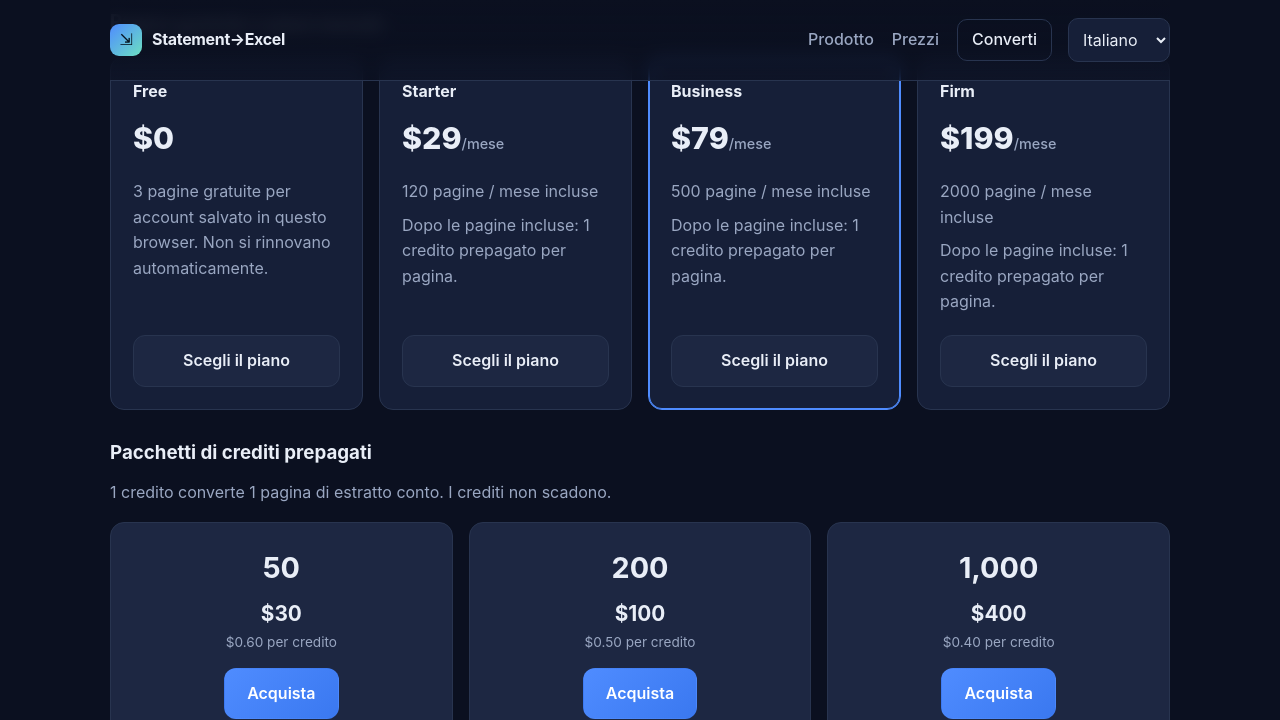
Test: server-authoritative checkout › shows only the localized checkout error in it
(page scrolled)
Step 1. Click the button "Scegli il piano" below "120" → {"x": 506, "y": 361}, box [402,335,609,386]
(page scrolled)
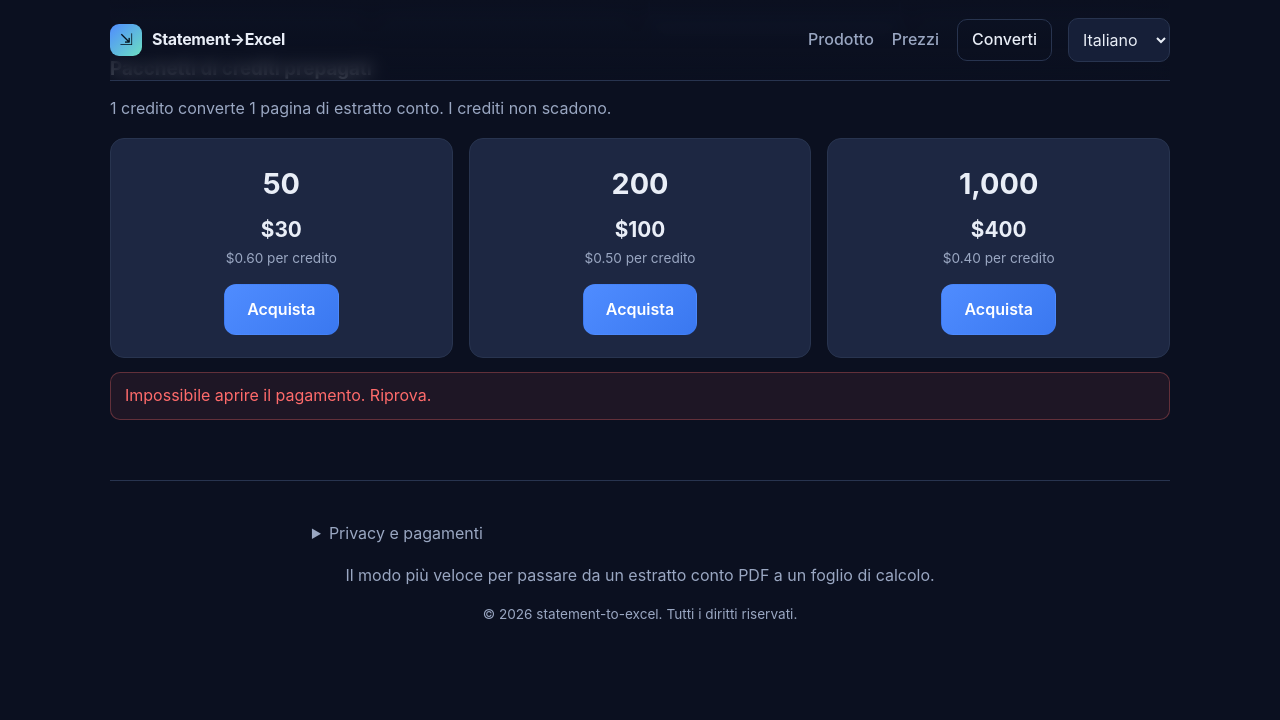
Expected: the message does not show "STRIPE_OMITTED", [110,372,1170,420]
Now the message reads "Impossibile aprire il pagamento. Riprova.", box [125,386,431,406]
